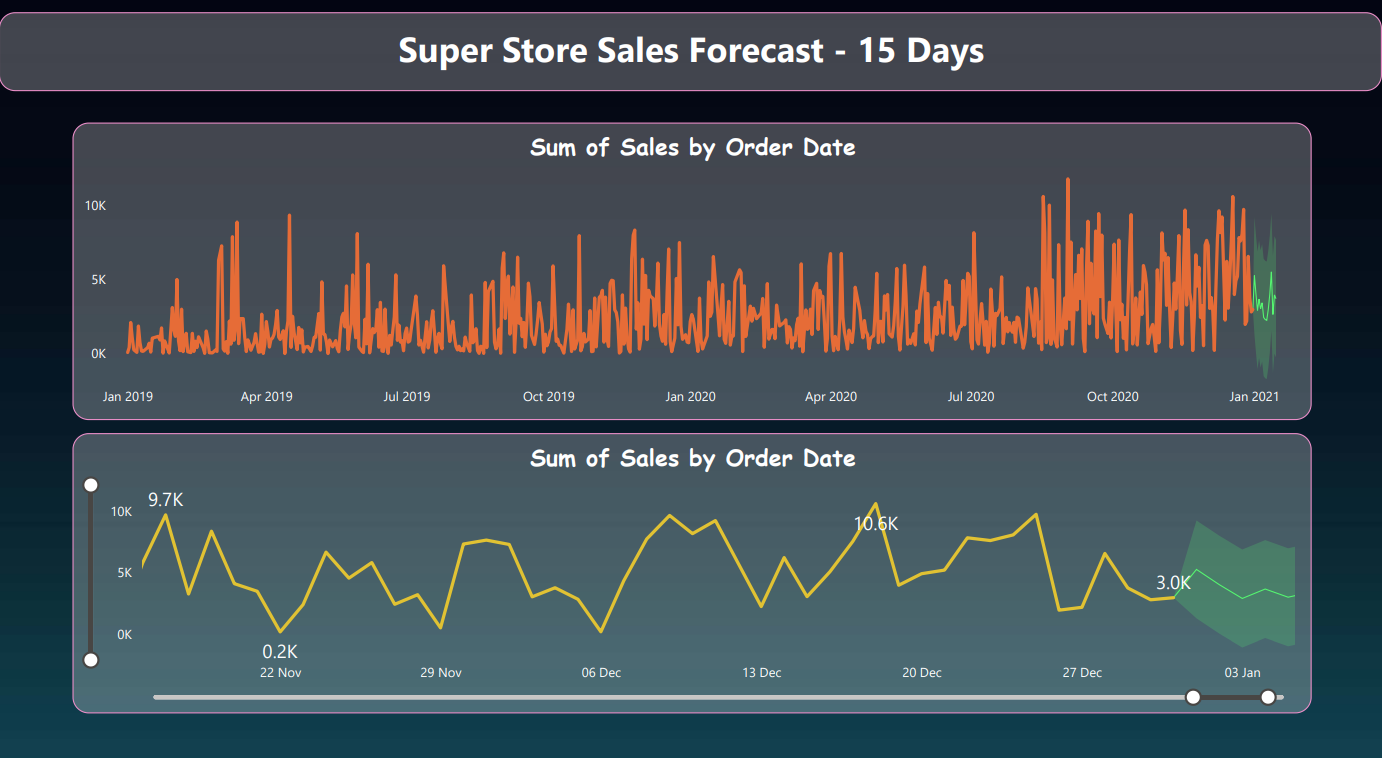

The dashboard page shown, as its layout file describes it:
{"tool":"powerbi","page":{"name":"Page 2","canvas":[1280,720],"ordinal":1},"visuals":[{"type":"lineChart","fields":{"Y":["Sum(Sheet1.Sales)"],"Category":["Sheet1.Order Date"]},"box":[68.3,128.7,1146,275],"z":0},{"type":"lineChart","fields":{"Y":["Sum(Sheet1.Sales)"],"Category":["Sheet1.Order Date"]},"box":[68.3,416.4,1146,259.1],"z":1000},{"type":"textbox","box":[0,27,1279.5,73.1],"z":1001}]}

Visuals, with their boxes in screenshot pixels (x1, y1, x2, y2), scaled from the page's 1280x720 canvas onto the 1382x758 screenshot:
lineChart - Sum(Sheet1.Sales) x Sheet1.Order Date: [74, 135, 1311, 425]
lineChart - Sum(Sheet1.Sales) x Sheet1.Order Date: [74, 438, 1311, 711]
textbox: [0, 28, 1381, 105]
